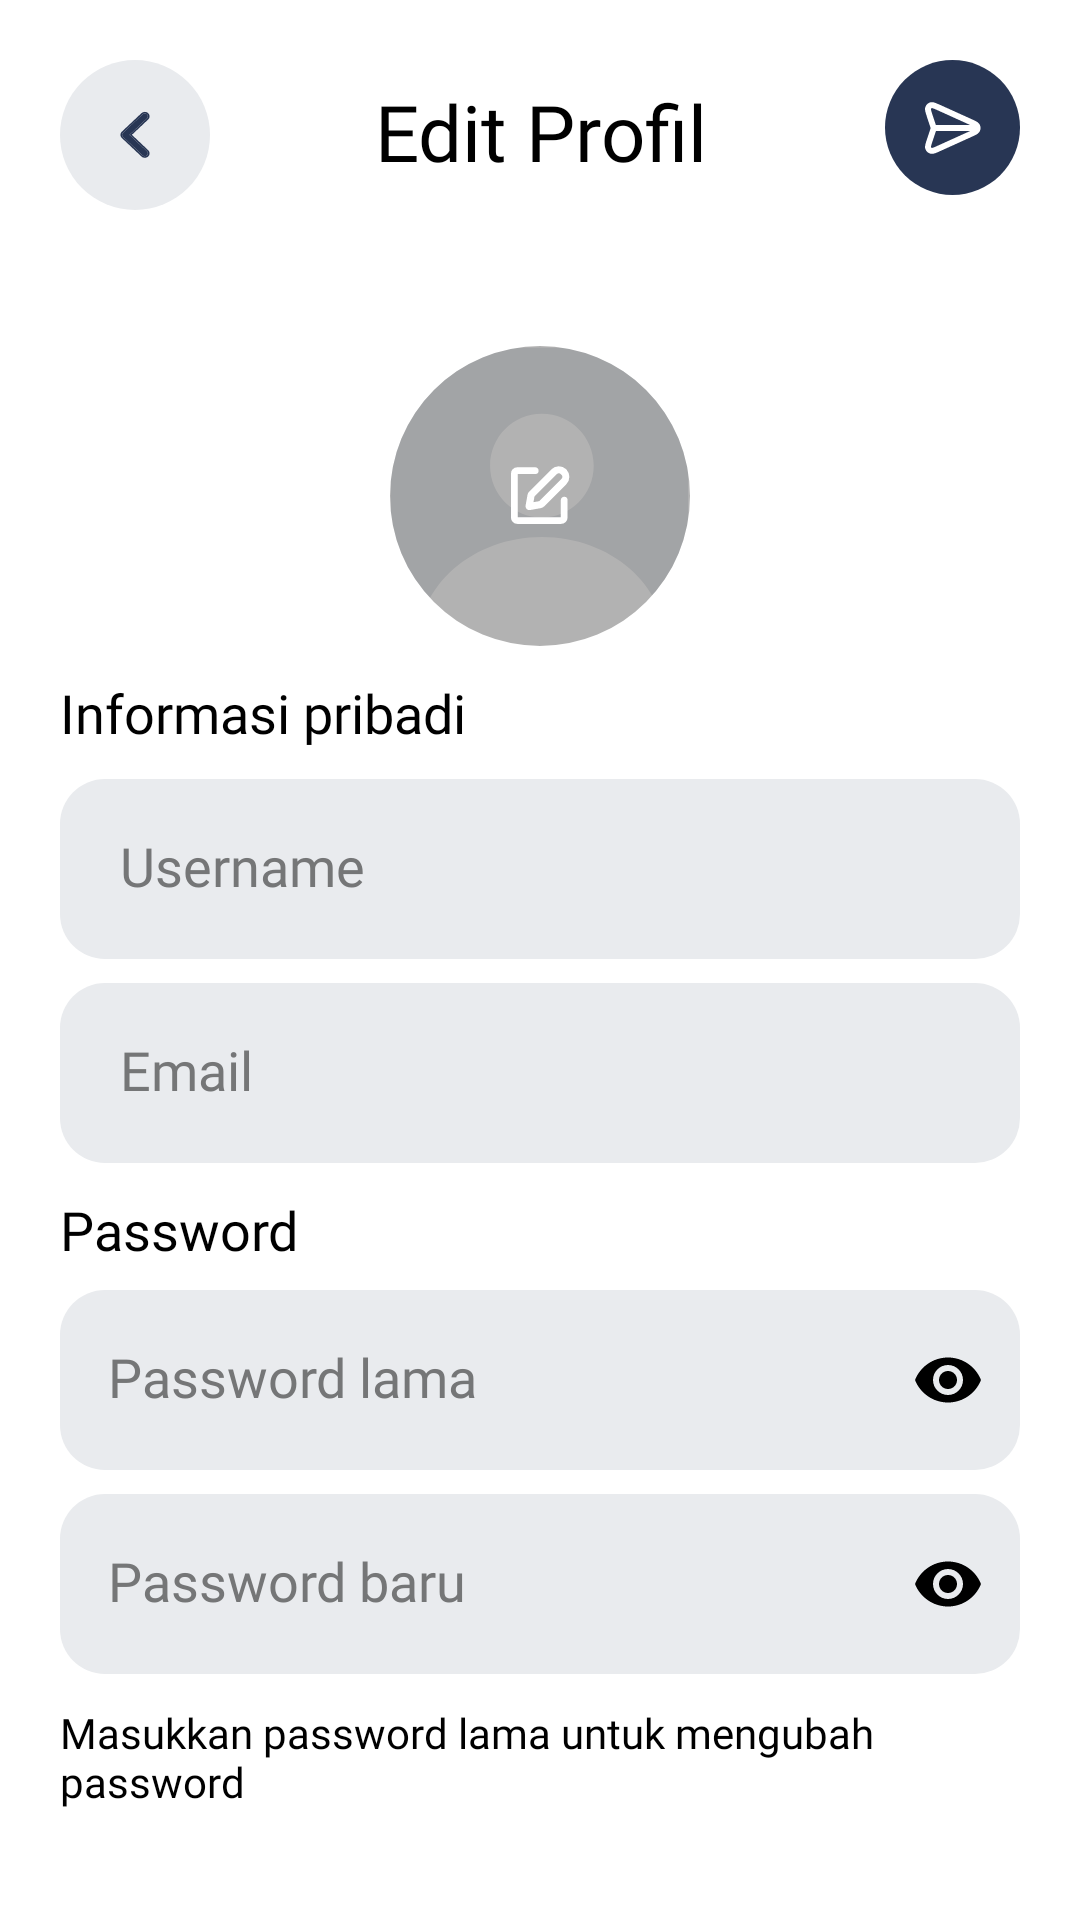

Icon click points for this 1080px×1920px phone screenshot, format [x,y]:
back: [135,135]
edit: [540,495]
send: [952,127]
